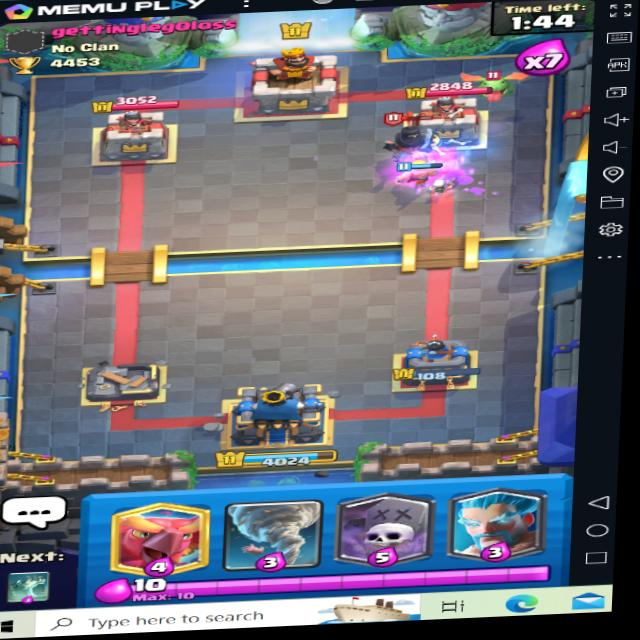Babydragon: (467, 62, 529, 103)
Darkprince: (378, 109, 447, 170)
